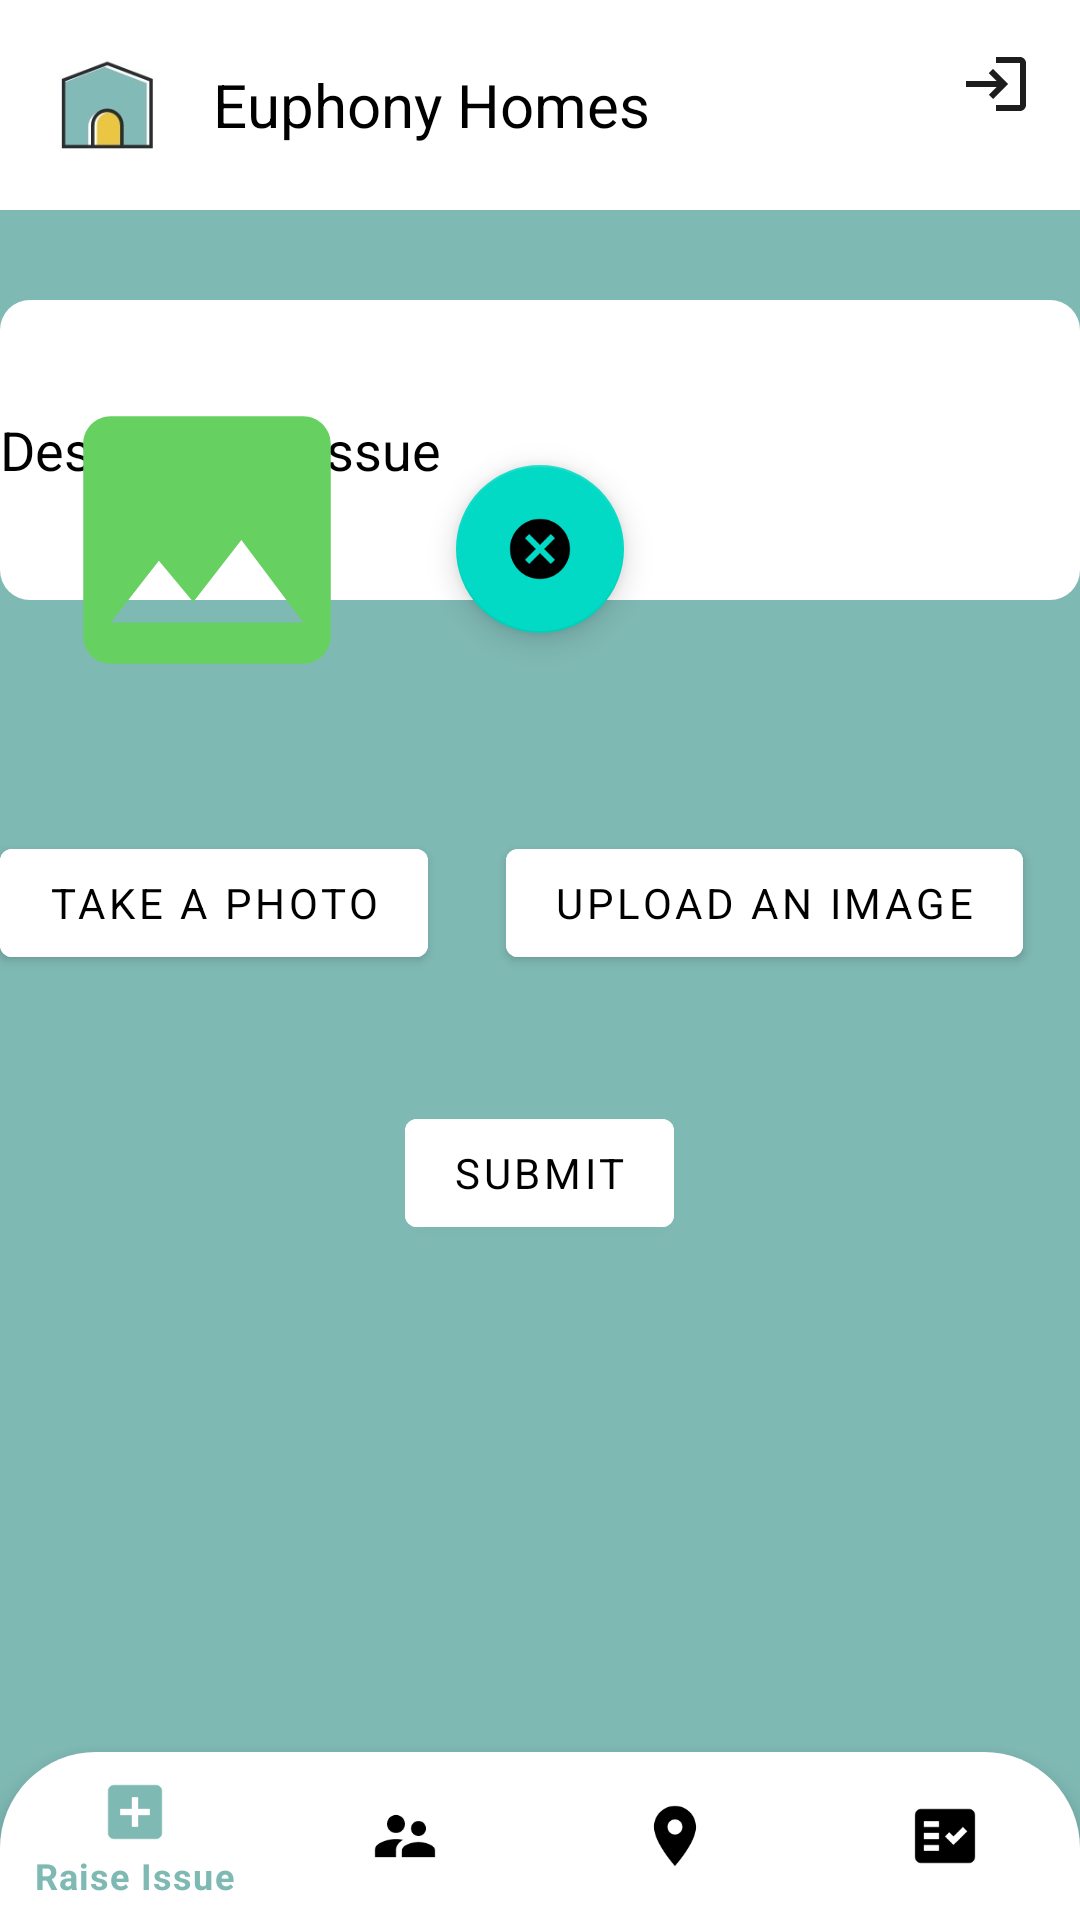

Icon bounding boxes for this 1080px×1920px phone screenshot, format (x1, y1, x2, y2):
cancel: (456, 465, 624, 633)
